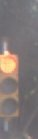Red: (1, 46, 18, 125)
